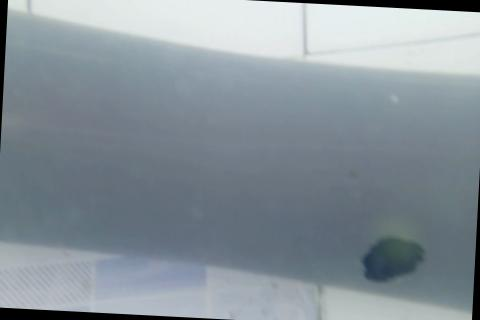kebocoran: (359, 232, 428, 287)
